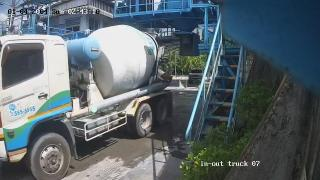cement_mixer_truck: (0, 23, 171, 180)
